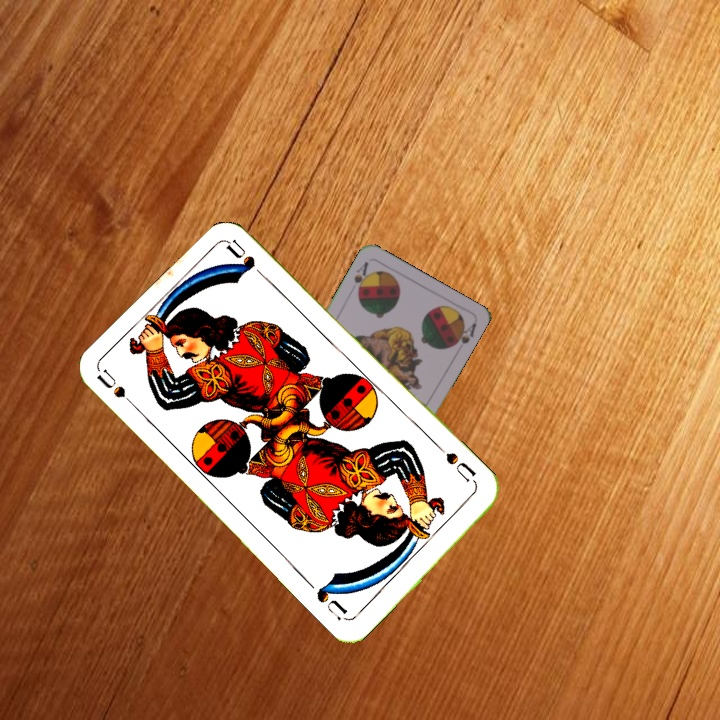SA: (350, 257, 373, 297)
SU: (94, 366, 144, 415), (441, 448, 481, 490)
